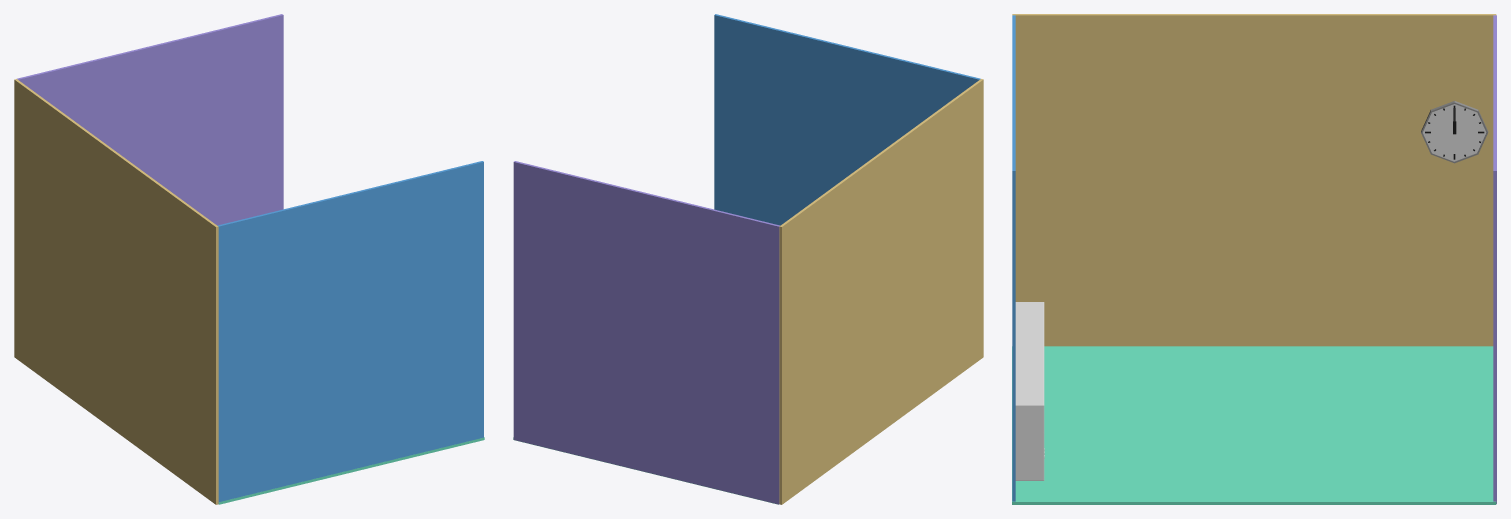
Rendered from room_no_couch.glb.
The picture shows the model from 3 angles, left to right: view 1: azimuth 30°, elevation 25°; view 2: azimuth 150°, elevation 25°; view 3: azimuth 270°, elevation 25°; orthographic projection. The views are drawn at different scales.
Visible parts, largest first — view 1: Wall_L, Wall_B, Wall_R, Floor; view 2: Wall_R, Wall_B, Wall_L; view 3: Wall_B, Floor, bookshellf, Circle, Wall_R, Wall_L.
Part boxes in pixels (box(x1,y1,x2,y2)): Wall_L: box(217, 161, 483, 503); Wall_B: box(14, 79, 218, 504); Wall_R: box(17, 14, 283, 225); Floor: box(219, 437, 484, 504); Wall_R: box(513, 161, 779, 504); Wall_B: box(779, 79, 983, 504); Wall_L: box(714, 14, 980, 225); Wall_B: box(1012, 14, 1496, 346); Floor: box(1012, 346, 1496, 504); bookshellf: box(1015, 302, 1044, 480); Circle: box(1421, 101, 1488, 163); Wall_R: box(1493, 15, 1496, 503); Wall_L: box(1012, 15, 1015, 501).
Bounding box in the file's own units: 20.07 × 19.88 × 26.17.
